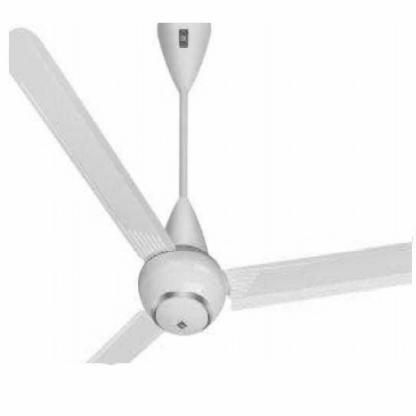ceiling-fan: (9, 23, 413, 364)
